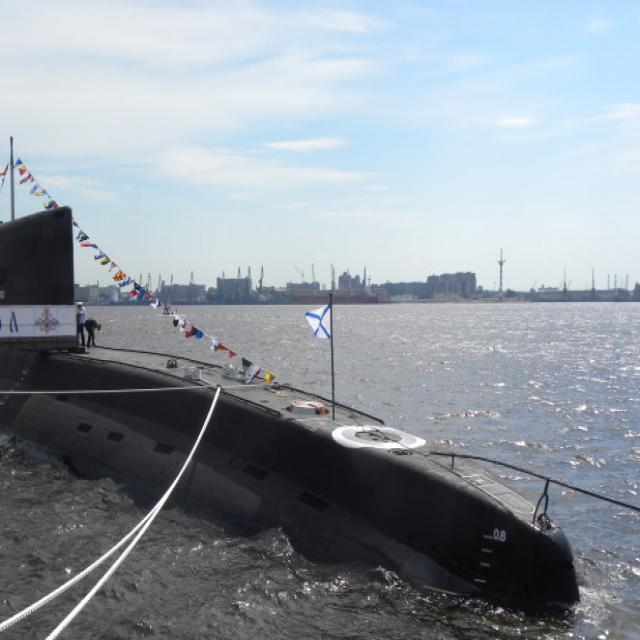submarine: (1, 205, 586, 618)
